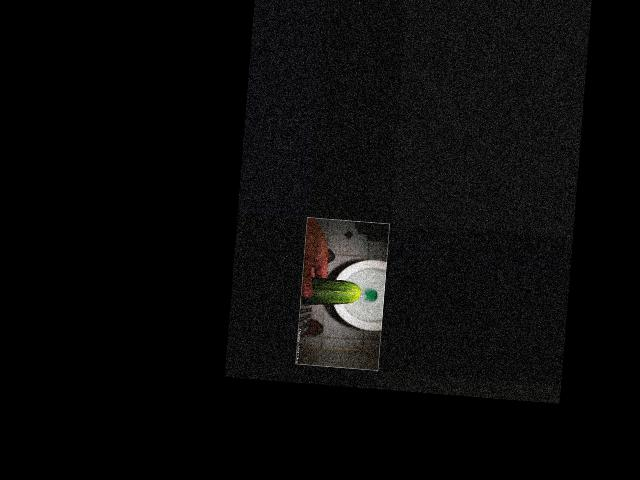cucumber: (299, 277, 361, 309)
